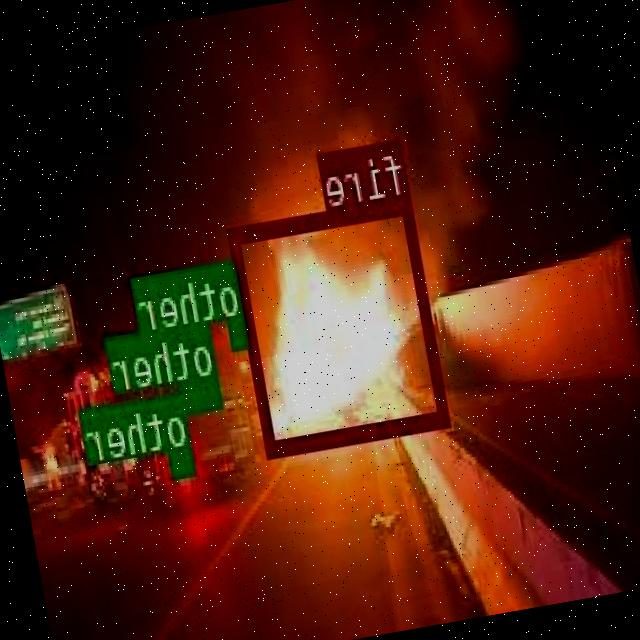fire: (229, 195, 451, 454)
